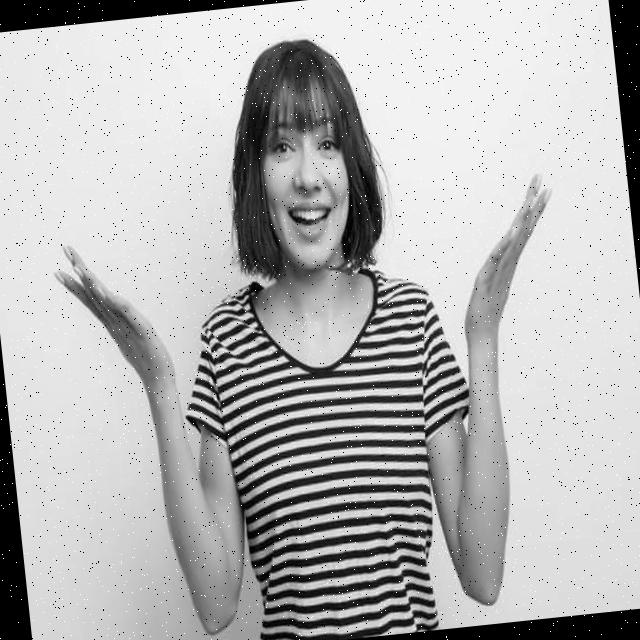Surprised: (253, 75, 357, 273)
